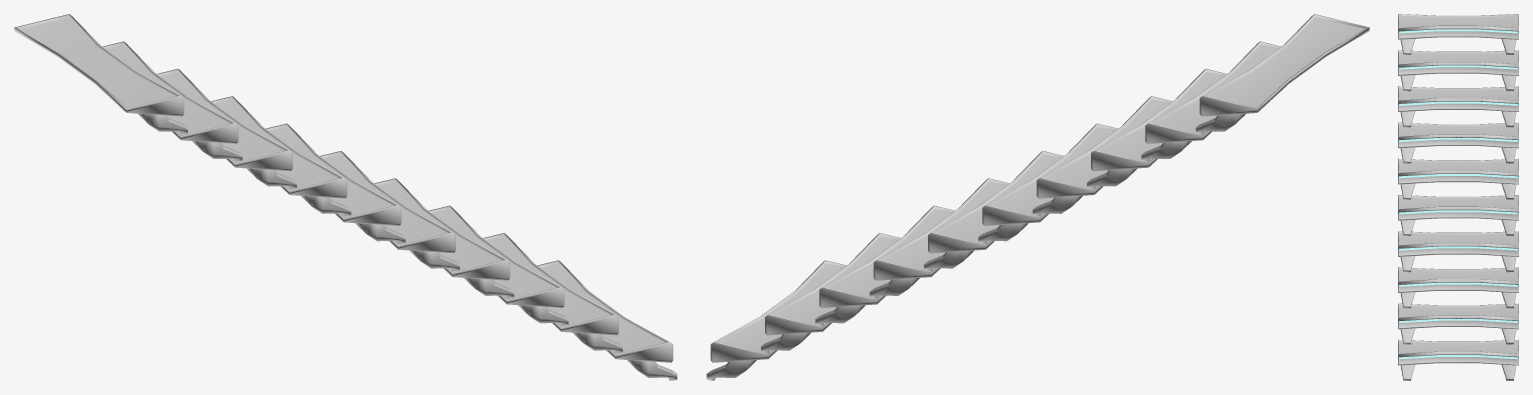
Rendered from sm_stairs.glb.
3 renders of one model, left to right at view 1: azimuth 30°, elevation 25°; view 2: azimuth 150°, elevation 25°; view 3: azimuth 270°, elevation 25°, orthographic. The views are drawn at different scales.
Visible parts, largest first — view 1: Stairs; view 2: Stairs; view 3: Stairs.
Part boxes in pixels (x1,y1,x2,y2): Stairs: (14,14,677,380); Stairs: (706,14,1369,380); Stairs: (1398,14,1518,380).
Size of the model in its own units: 2.87 by 2.02 by 1.
